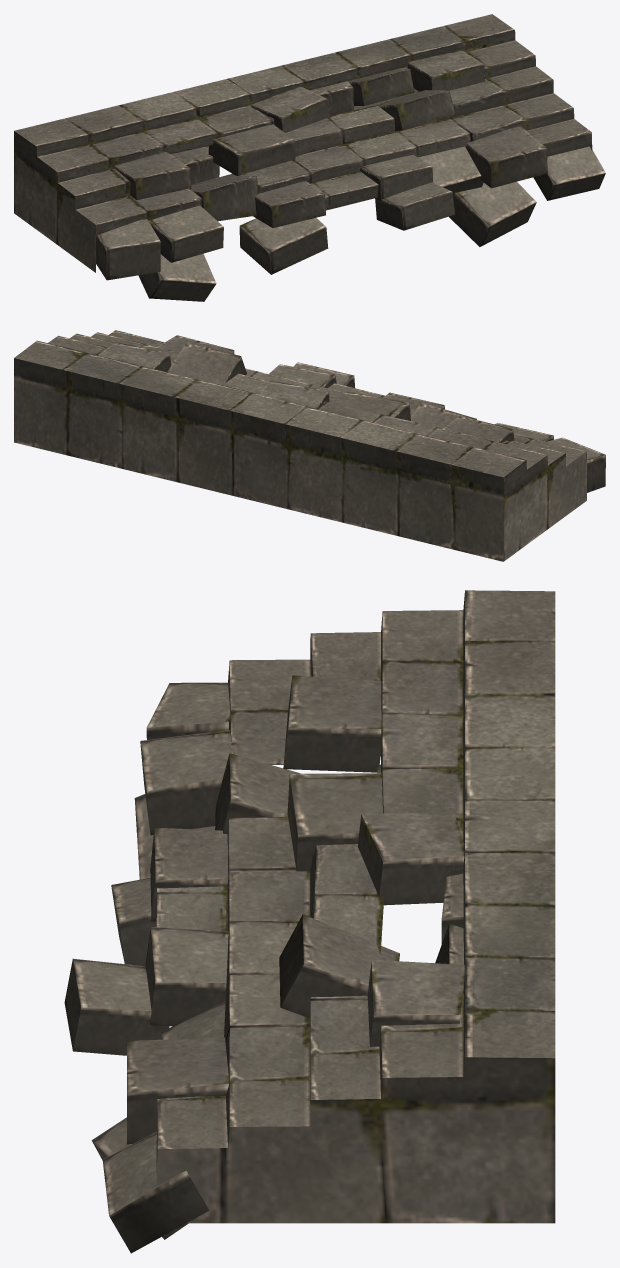
Rendered from SM_EN_2005_taijie01.FBX.
The picture shows the model from 3 angles, top to bottom: view 1: azimuth 30°, elevation 25°; view 2: azimuth 150°, elevation 25°; view 3: azimuth 270°, elevation 25°; orthographic projection. The views are drawn at different scales.
Parts seen in each view (by area): view 1: SM_EN_2005_taijie01; view 2: SM_EN_2005_taijie01; view 3: SM_EN_2005_taijie01.
Part boxes in pixels (bbox=[...]): SM_EN_2005_taijie01: bbox=[14, 14, 605, 301]; SM_EN_2005_taijie01: bbox=[14, 330, 605, 561]; SM_EN_2005_taijie01: bbox=[64, 590, 555, 1253].
Size of the model in its own units: 306 by 74.55 by 134.
